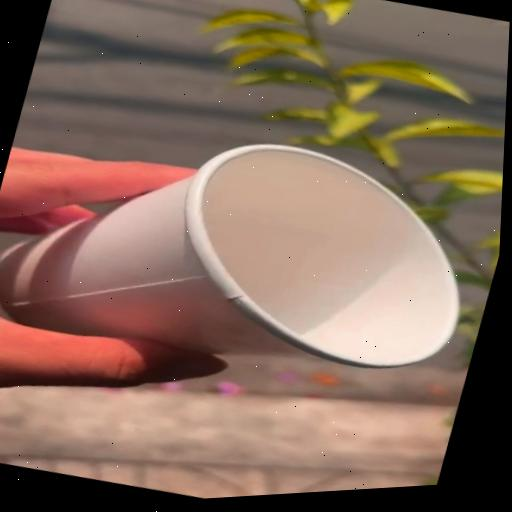Ly_giay: (0, 145, 458, 367)
